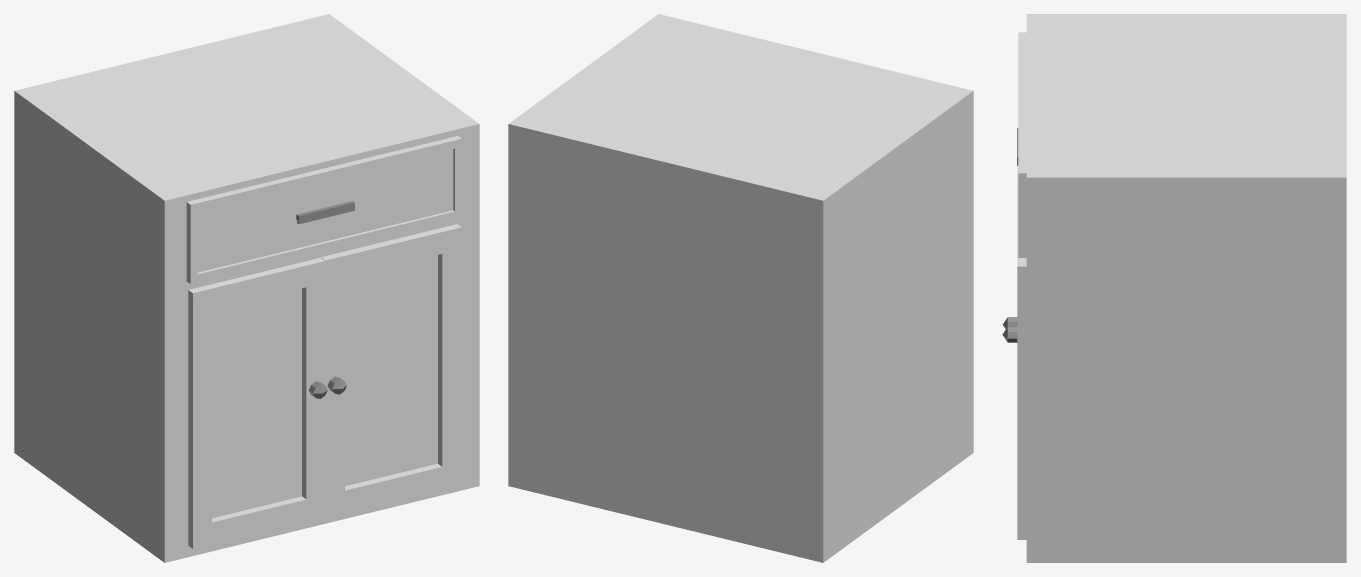
The model's file is Bathroom Furniture.glb.
3 renders of one model, left to right at view 1: azimuth 30°, elevation 25°; view 2: azimuth 150°, elevation 25°; view 3: azimuth 270°, elevation 25°, orthographic. The views are drawn at different scales.
Visible parts, largest first — view 1: Furniture; view 2: Furniture; view 3: Furniture.
Part boxes in pixels (x1,y1,x2,y2): Furniture: [14, 14, 479, 562]; Furniture: [508, 14, 973, 562]; Furniture: [1002, 14, 1346, 562].
Bounding box in the file's own units: 0.8518 × 0.9363 × 0.7576.
Materials: 1 (1 with a texture image).
